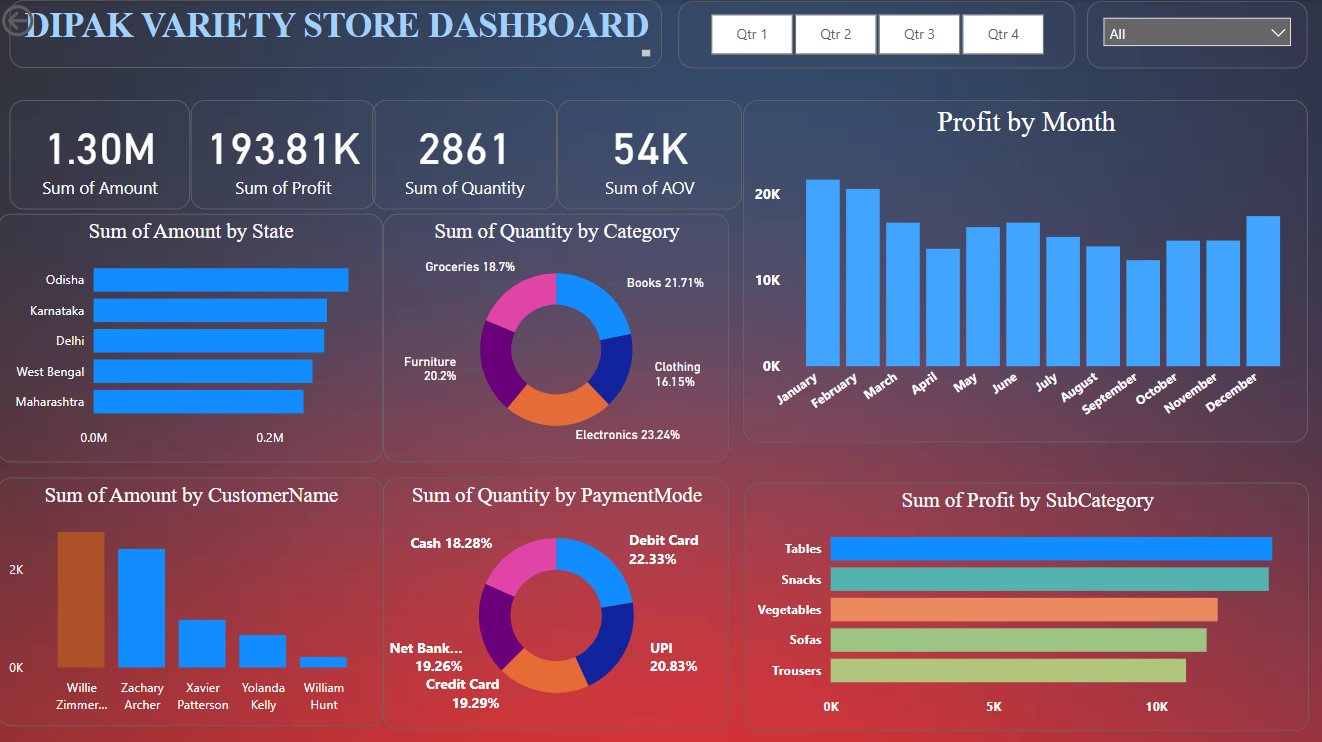

The dashboard page shown, as its layout file describes it:
{"tool":"powerbi","page":{"name":"Page 1","canvas":[1280,720],"ordinal":0},"visuals":[{"type":"textbox","title":"DIPAK VARIETY STORE DASHBOARD","box":[12.3,0,629.8,65.9],"z":0},{"type":"clusteredColumnChart","title":"Profit by Month","fields":{"Category":["customer_details.OrderDate.Variation.Date Hierarchy.Month"],"Y":["payment_details.Profit"]},"box":[720.4,96.1,544.8,330.7],"z":1000},{"type":"donutChart","fields":{"Category":["payment_details.PaymentMode"],"Y":["payment_details.Quantity"]},"box":[373.2,461.1,333.4,244.3],"z":2000},{"type":"donutChart","fields":{"Y":["payment_details.Quantity"],"Series":["payment_details.Category"]},"box":[373.2,205.8,333.4,240.1],"z":3000},{"type":"barChart","fields":{"Category":["payment_details.SubCategory"],"Y":["payment_details.Profit"]},"box":[721.8,465.2,544.8,240.1],"z":4000},{"type":"columnChart","fields":{"Category":["customer_details.CustomerName"],"Y":["payment_details.Amount"]},"box":[0,461.1,373.2,240.1],"z":5000},{"type":"barChart","fields":{"Category":["customer_details.State"],"Y":["payment_details.Amount"]},"box":[0,206,373,240],"z":6000},{"type":"card","fields":{"Values":["payment_details.Amount"]},"box":[12.3,96.1,174.3,105.7],"z":7000},{"type":"card","fields":{"Values":["payment_details.Profit"]},"box":[186.6,96.1,178.4,105.7],"z":8000},{"type":"card","fields":{"Values":["payment_details.Quantity"]},"box":[362.3,96.1,178.4,105.7],"z":9000},{"type":"card","fields":{"Values":["payment_details.AOV"]},"box":[540.7,96.1,178.4,105.7],"z":10000},{"type":"actionButton","box":[0,0,100,40],"z":11000},{"type":"slicer","fields":{"Values":["customer_details.OrderDate.Variation.Date Hierarchy.Quarter"]},"box":[657.3,1.4,382.8,64.5],"z":11001},{"type":"slicer","fields":{"Values":["customer_details.State"]},"box":[1052.5,1.4,212.7,64.5],"z":11002}]}

Visuals, with their boxes in screenshot pixels (x1, y1, x2, y2), scaled from the page's 1280x720 canvas onto the 1322x742 screenshot:
"DIPAK VARIETY STORE DASHBOARD" textbox: bbox=[13, 0, 663, 68]
"Profit by Month" clusteredColumnChart: bbox=[744, 99, 1307, 440]
donutChart - payment_details.PaymentMode x payment_details.Quantity: bbox=[385, 475, 730, 727]
donutChart - payment_details.Quantity x payment_details.Category: bbox=[385, 212, 730, 460]
barChart - payment_details.SubCategory x payment_details.Profit: bbox=[745, 479, 1308, 727]
columnChart - customer_details.CustomerName x payment_details.Amount: bbox=[0, 475, 385, 723]
barChart - customer_details.State x payment_details.Amount: bbox=[0, 212, 385, 460]
card - payment_details.Amount: bbox=[13, 99, 193, 208]
card - payment_details.Profit: bbox=[193, 99, 377, 208]
card - payment_details.Quantity: bbox=[374, 99, 558, 208]
card - payment_details.AOV: bbox=[558, 99, 743, 208]
actionButton: bbox=[0, 0, 103, 41]
slicer - customer_details.OrderDate.Variation.Date Hierarchy.Quarter: bbox=[679, 1, 1074, 68]
slicer - customer_details.State: bbox=[1087, 1, 1307, 68]
